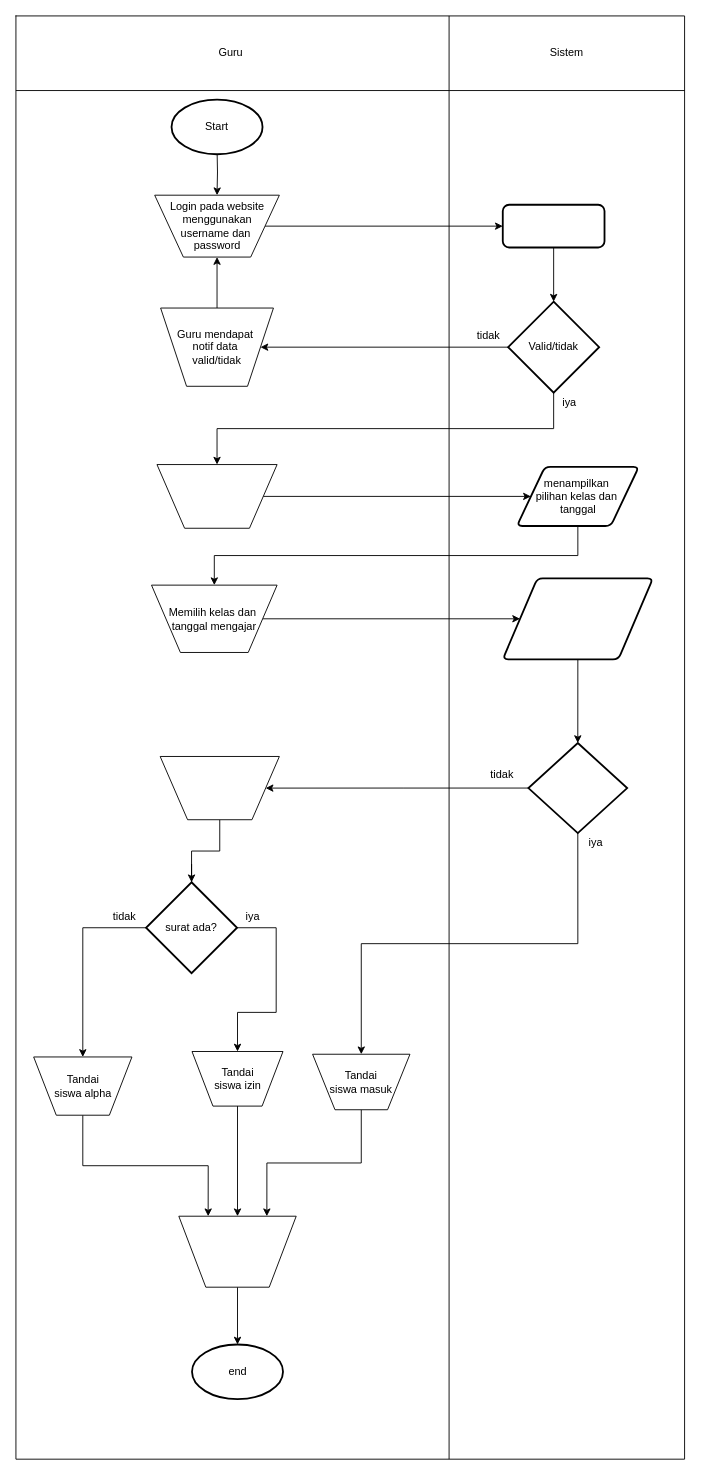
This 701x1475 diagram has some shape labels left out. The centre of each missing label's shape, as x and y in pixels:
guru memeriksa apakah ada surat atau tidak: point 219,788
Guru merekap absen siswa: point 237,1251
Masuk pada menu absen siswa: point 216,496
Menampilkan nama siswa yang masuk: point 577,618
nama ada?: point 577,788
proses pengecekan data: point 553,225
